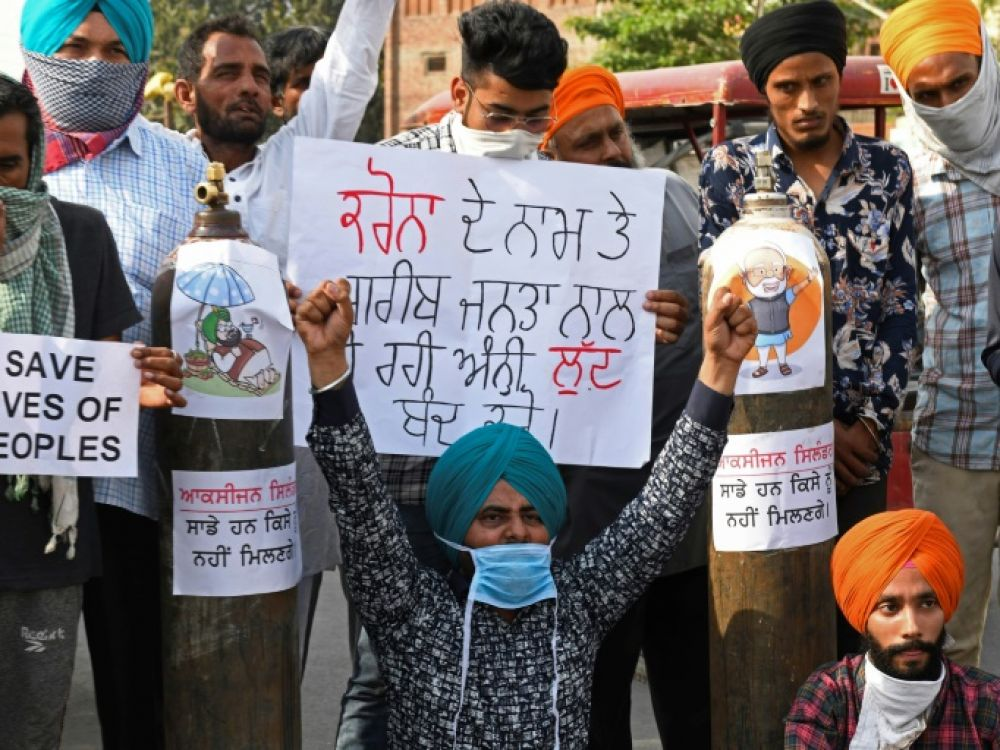with_mask: (454, 502, 566, 609)
without_mask: (171, 58, 275, 142), (861, 591, 954, 677), (766, 71, 846, 145)
